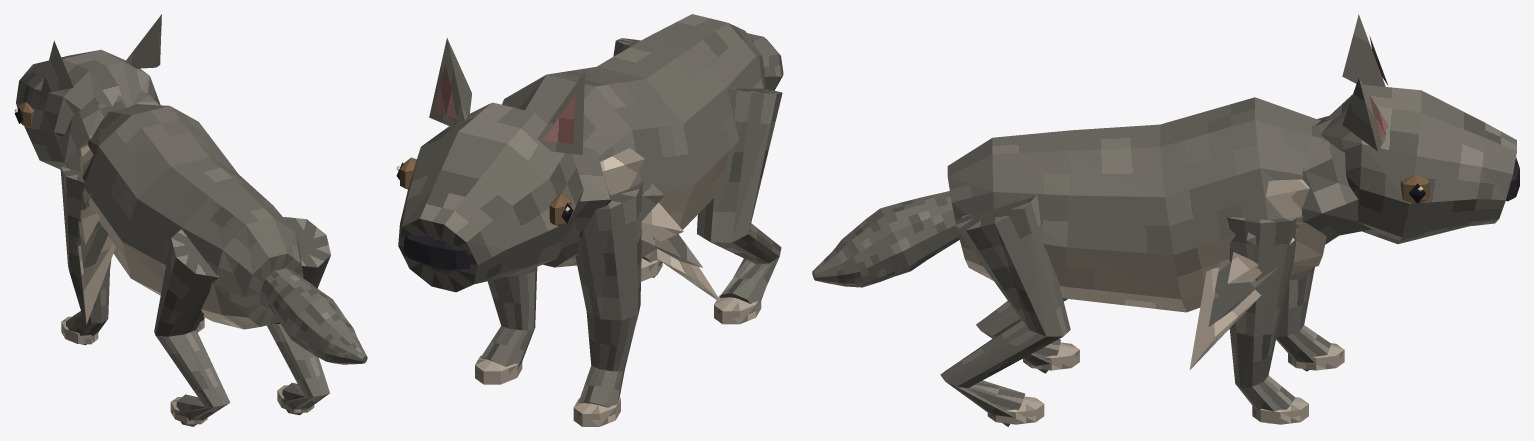
Rendered from mon_wolf_pup.glb.
3 views of the same model, side by side, from view 1: azimuth 30°, elevation 25°; view 2: azimuth 150°, elevation 25°; view 3: azimuth 270°, elevation 25° (orthographic). The views are drawn at different scales.
Visible parts, largest first — view 1: closed_body; view 2: closed_body; view 3: closed_body.
Boxes of the visible parts, x1,y1,x2,y2 form: closed_body: (14, 14, 367, 426); closed_body: (396, 14, 783, 426); closed_body: (812, 14, 1519, 426).
Size of the model in its own units: 0.143 by 0.2185 by 0.3964.
1 material, 1 textured.
